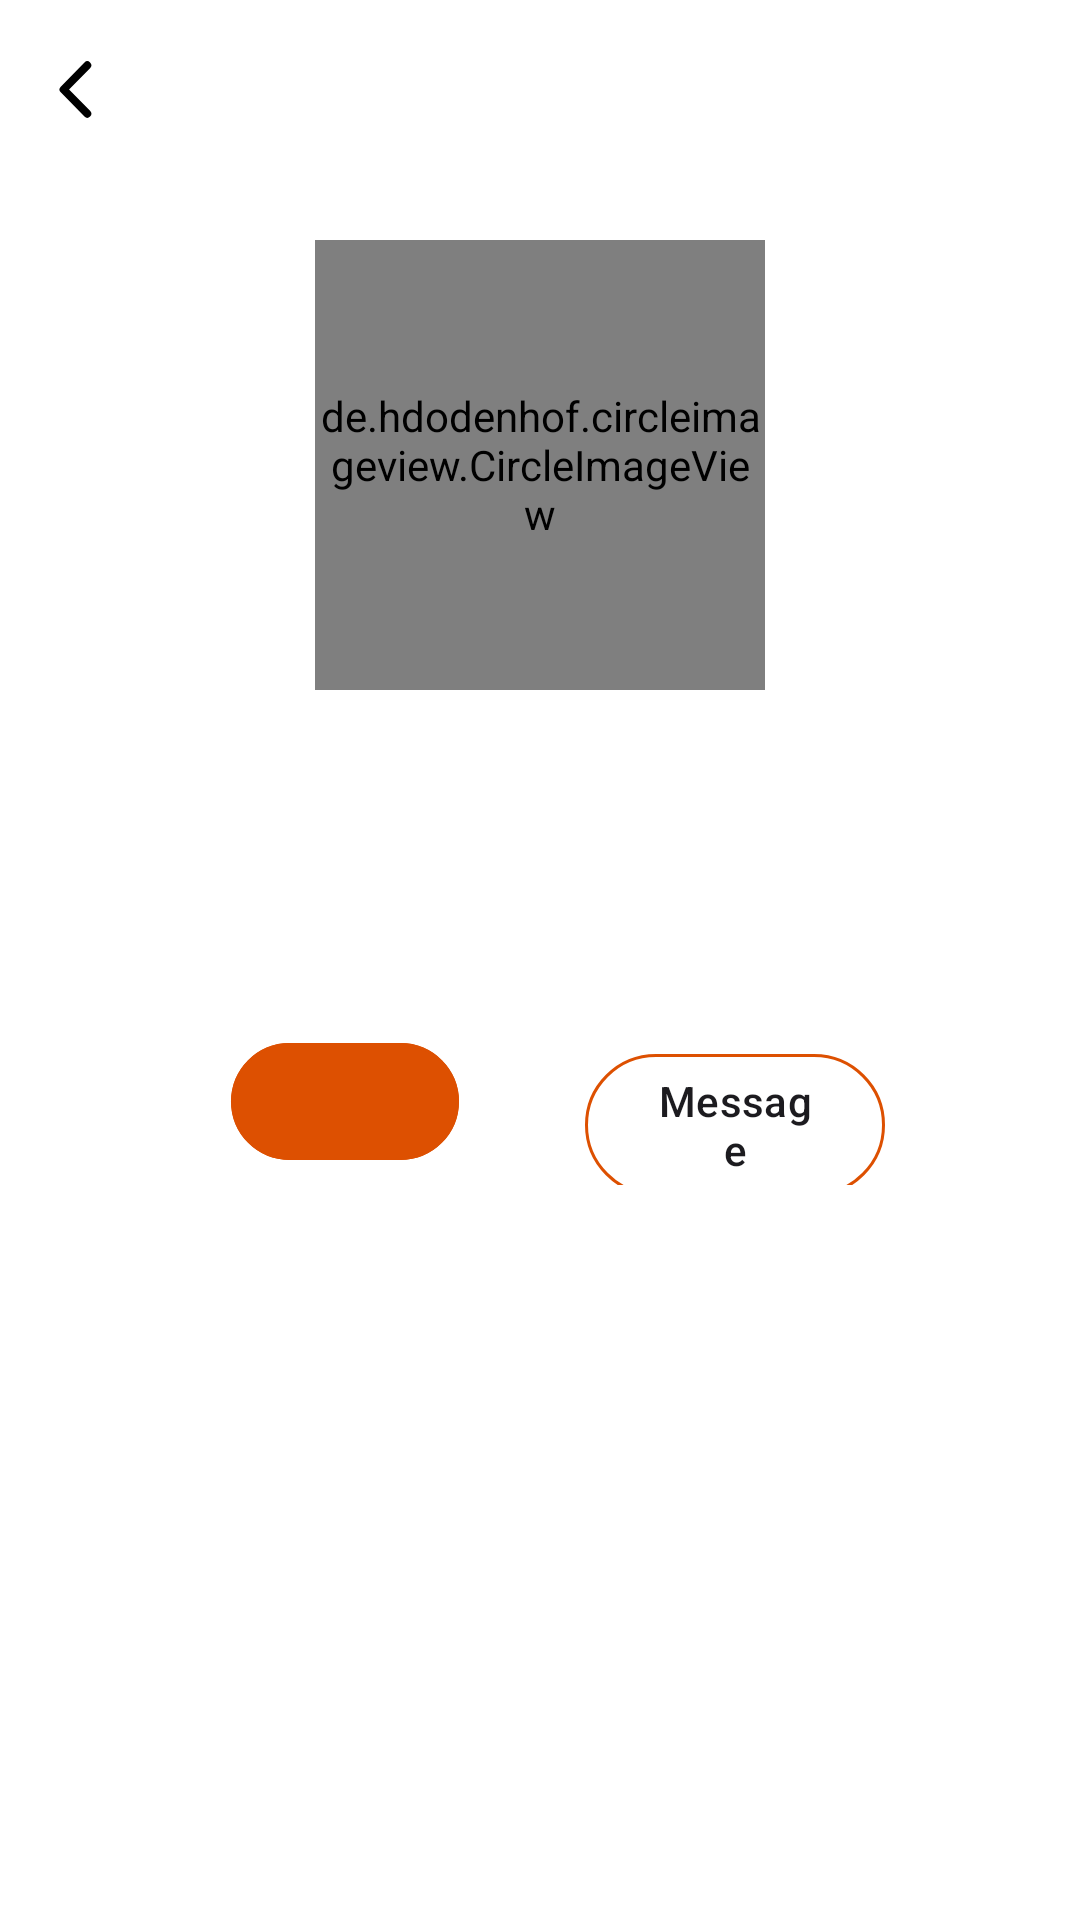

Icons on this 1080*1920 Android screen, each with the point to tap as [x,y]:
arrow: [75,89]
